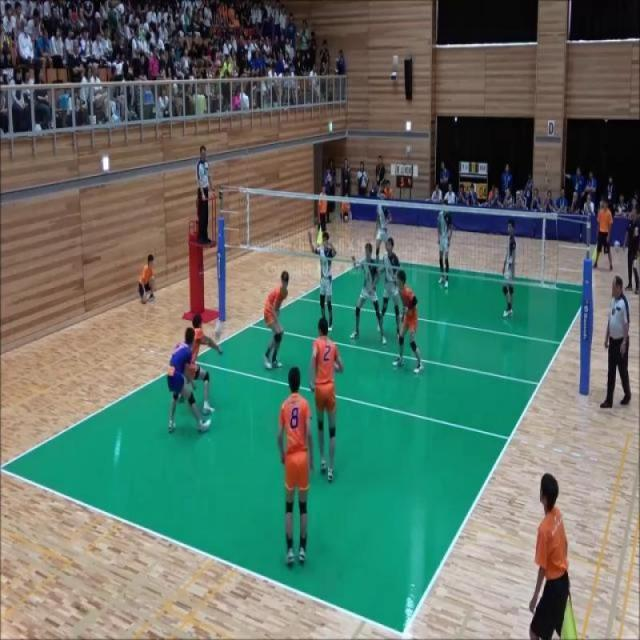volleyball: (212, 318, 223, 341), (614, 239, 620, 253)
